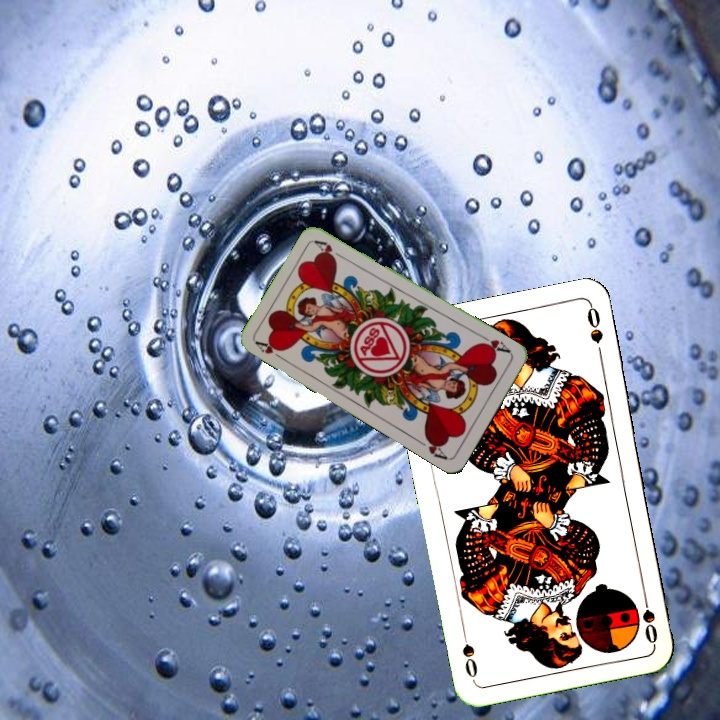HA: (252, 336, 289, 364), (475, 331, 513, 356)
SO: (638, 587, 660, 646)
